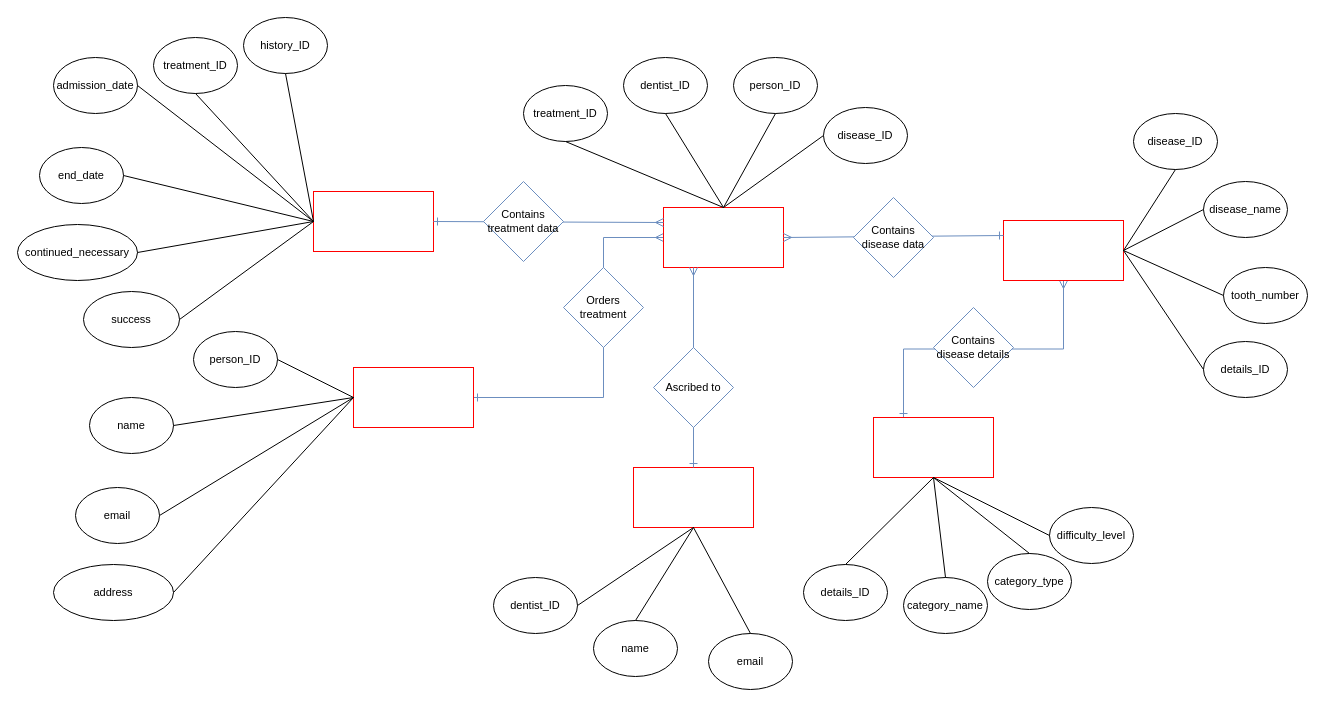
The diagram is 1325 pixels wide and 707 high, and some of its shapes have lost their labels. Each missing label, with the centre of its shape:
"Dentist" belongs at pixel 693 497.
"Disease" belongs at pixel 1063 250.
"Disease Details" belongs at pixel 933 447.
"Person" belongs at pixel 413 397.
"Treatment Data" belongs at pixel 723 237.
"Treatment History" belongs at pixel 373 221.
